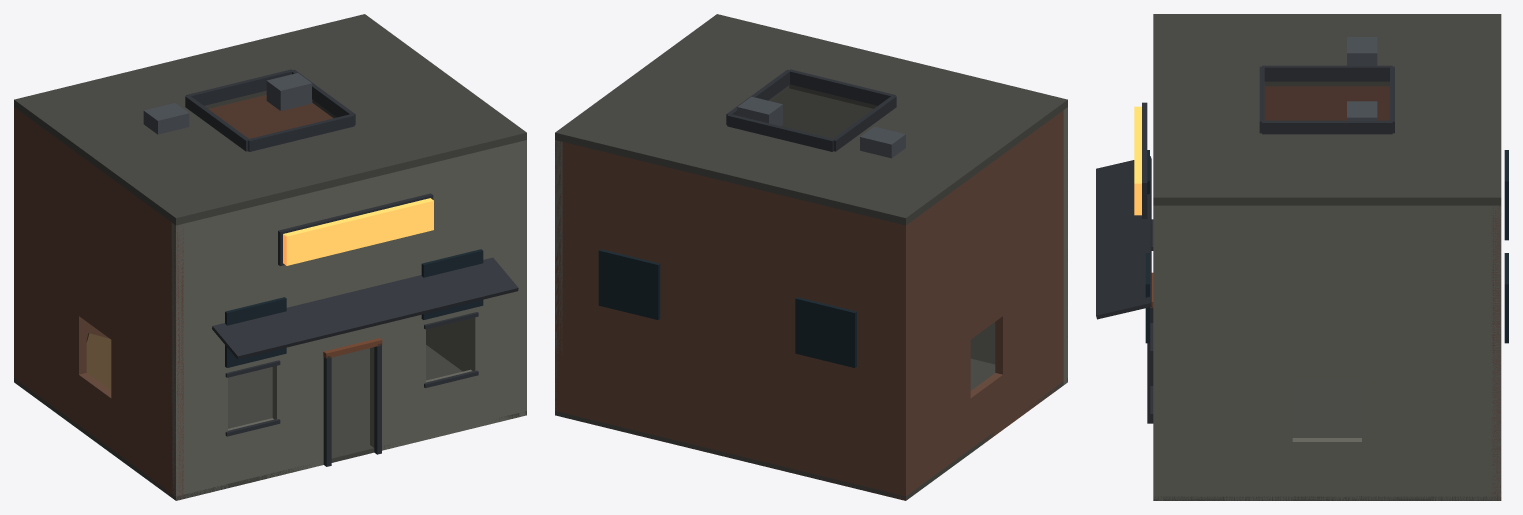
File: shop_store.glb
3 views of the same model, side by side, from view 1: azimuth 30°, elevation 25°; view 2: azimuth 150°, elevation 25°; view 3: azimuth 270°, elevation 25° (orthographic). The views are drawn at different scales.
Visible parts, largest first — view 1: shop_store; view 2: shop_store; view 3: shop_store.
Part boxes in pixels (x1,y1,x2,y2): shop_store: (14,14,526,500); shop_store: (555,14,1067,500); shop_store: (1096,14,1508,500).
Bounding box in the file's own units: 10 × 8.18 × 9.5.
